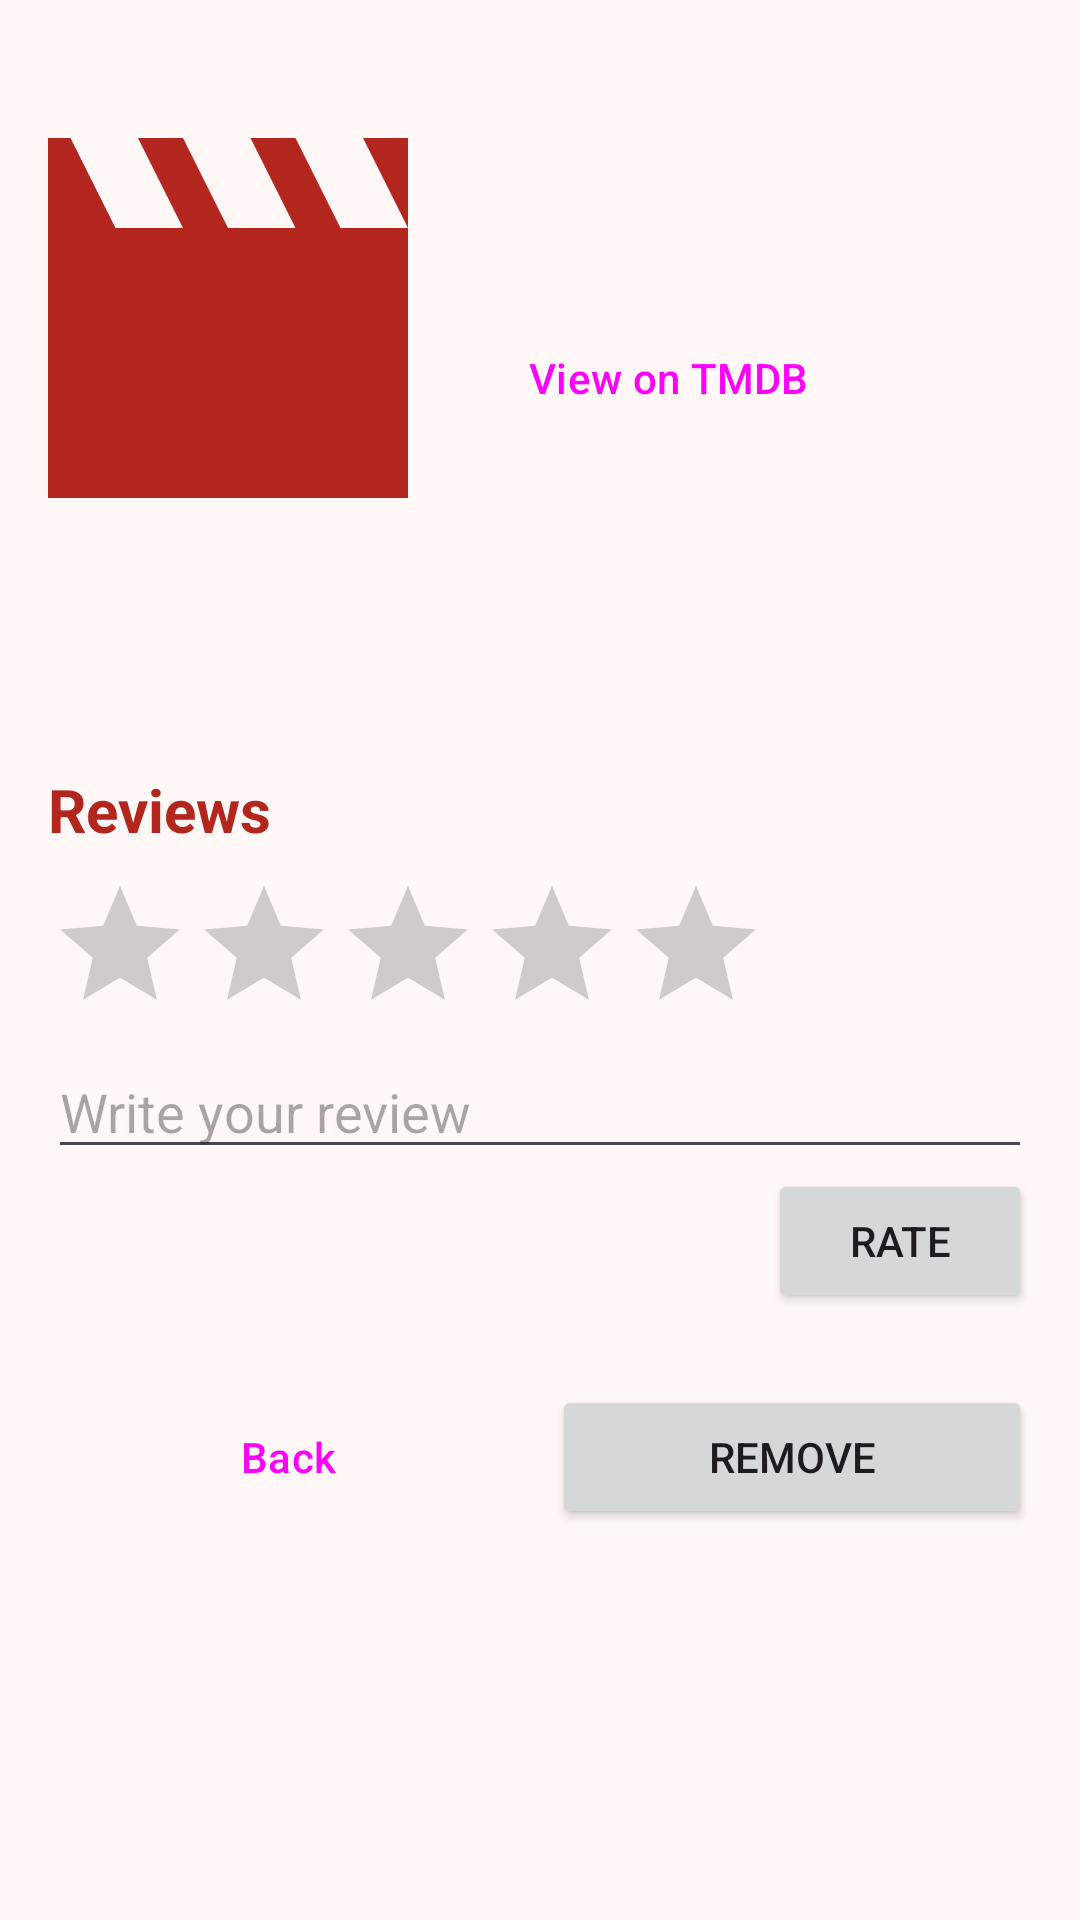

Where icons sit on this 1080px x 1920px app screen, as bbox=(x1, y1, x2, y2):
filme: bbox=(48, 138, 408, 498)
